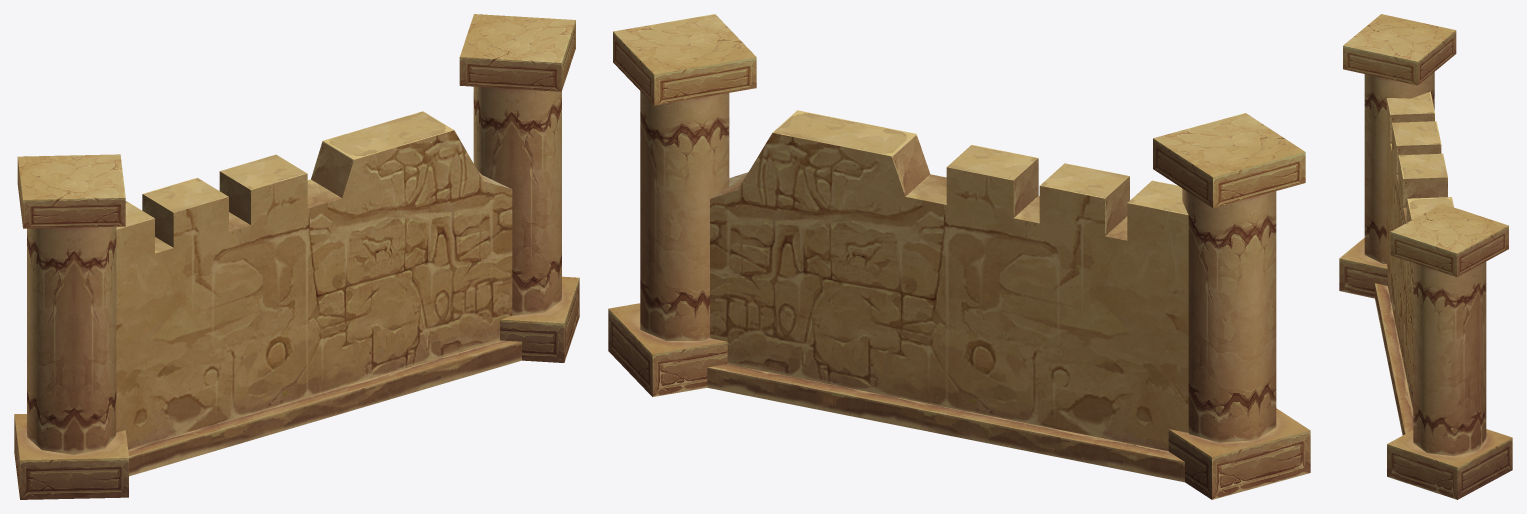
File: Area_11_34.fbx
3 renders of one model, left to right at view 1: azimuth 30°, elevation 25°; view 2: azimuth 150°, elevation 25°; view 3: azimuth 270°, elevation 25°, orthographic. The views are drawn at different scales.
Visible parts, largest first — view 1: Area_11_34; view 2: Area_11_34; view 3: Area_11_34.
Part boxes in pixels (box(x1,y1,x2,y2)): Area_11_34: box(14, 14, 579, 499); Area_11_34: box(608, 14, 1310, 499); Area_11_34: box(1339, 14, 1512, 499).
Size of the model in its own units: 871 by 409 by 263.
